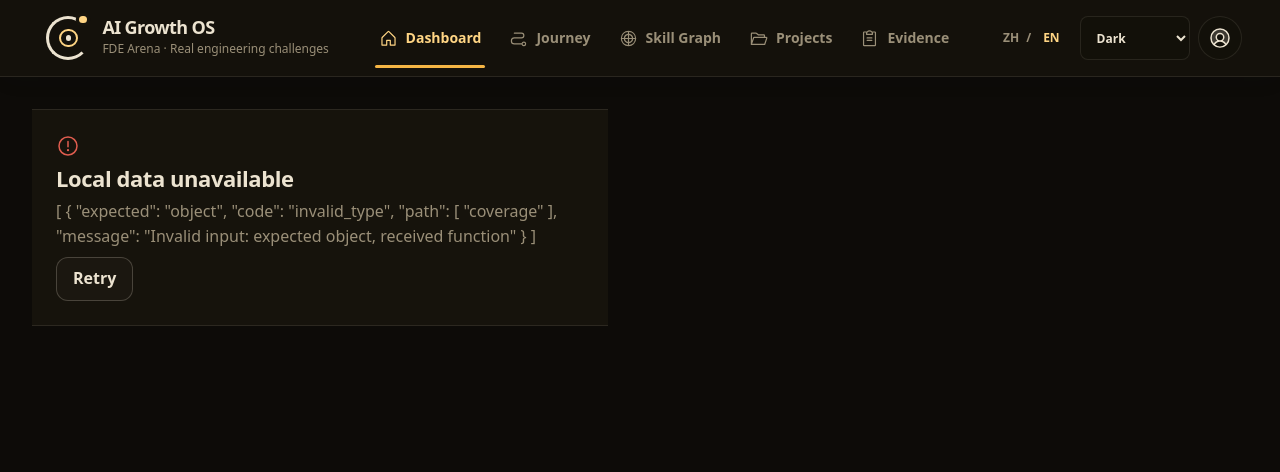
Test: application shell › routes command-bar search into the existing case filter
Step 1. Click the button named "Open workspace menu" → (1220, 38), box x1=1198 y1=16 x2=1242 y2=60
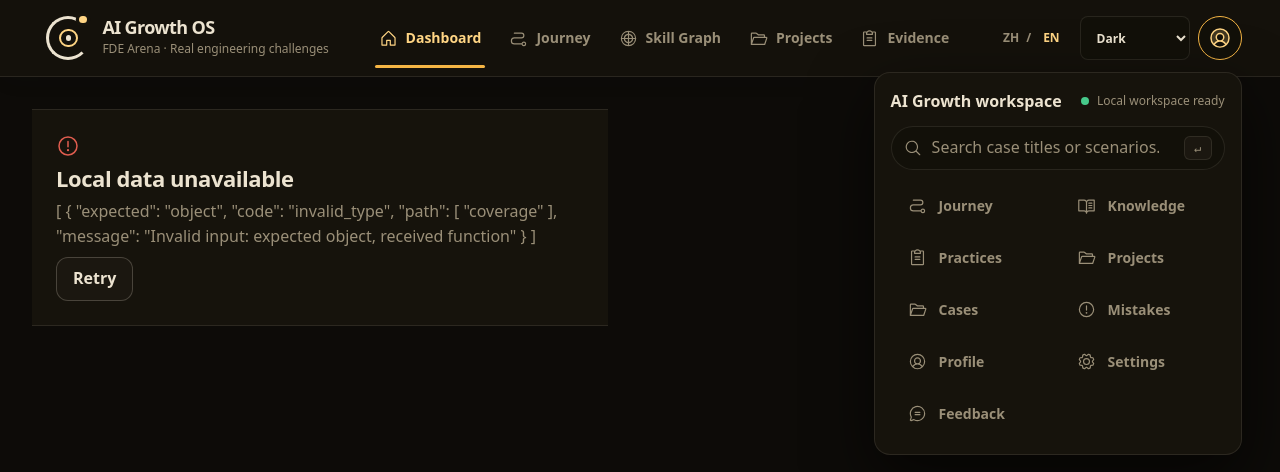
Step 2. Type "RAG incident" into the search field named "Search all cases" → (1053, 148), box x1=930 y1=127 x2=1176 y2=169
Then press Enter
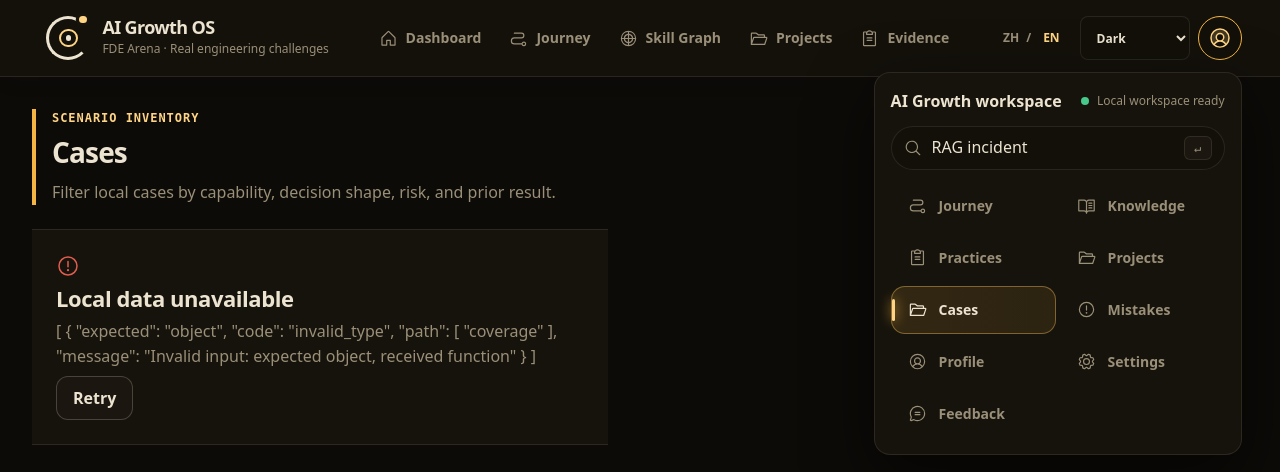
Check: the heading "Cases" is shown, box x1=52 y1=133 x2=127 y2=171
Check: the search field named "Search all cases" holds "RAG incident", box x1=930 y1=127 x2=1176 y2=169
